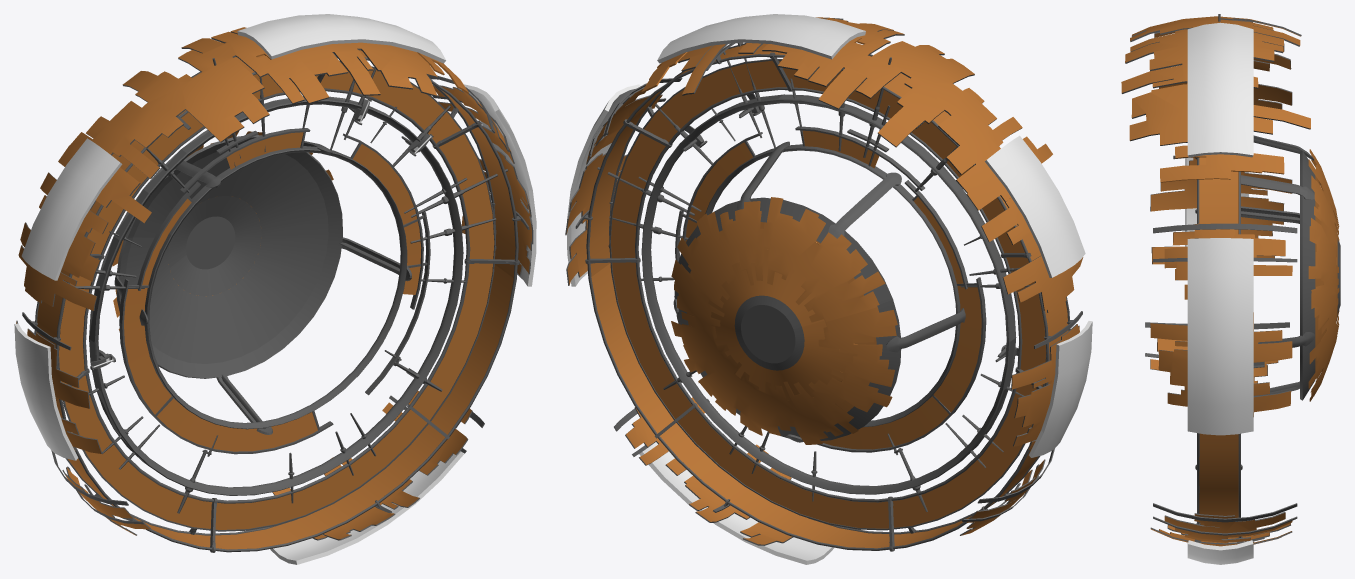
Rendered from VexArchitecture_51.fbx.
3 views of the same model, side by side, from view 1: azimuth 30°, elevation 25°; view 2: azimuth 150°, elevation 25°; view 3: azimuth 270°, elevation 25° (orthographic). The views are drawn at different scales.
Visible parts, largest first — view 1: Mesh_0491.rip, Mesh_0479.rip, Mesh_0468.rip, Mesh_0561.rip, Mesh_0221.rip.002, Mesh_0474.rip, Mesh_0486.rip.001, Mesh_0484.rip, Mesh_0479.rip.001, Mesh_0486.rip, Mesh_0558.rip.001, Mesh_0484.rip.002 (+12 smaller); view 2: Mesh_0491.rip, Mesh_0560.rip, Mesh_0468.rip, Mesh_0561.rip, Mesh_0479.rip, Mesh_0221.rip.002, Mesh_0474.rip, Mesh_0486.rip.001, Mesh_0484.rip, Mesh_0486.rip, Mesh_0558.rip.001, Mesh_0484.rip.002 (+12 smaller); view 3: Mesh_0484.rip.001, Mesh_0561.rip, Mesh_0484.rip, Mesh_0479.rip, Mesh_0491.rip, Mesh_0560.rip, Mesh_0558.rip, Mesh_0558.rip.002, Mesh_0559.rip, Mesh_0559.rip.002, Mesh_0475.rip.002, Mesh_0484.rip.002 (+10 smaller).
Part boxes in pixels (<box>): Mesh_0491.rip: <box>36,50,515,549</box>; Mesh_0479.rip: <box>114,135,411,434</box>; Mesh_0468.rip: <box>22,54,529,552</box>; Mesh_0561.rip: <box>58,27,468,223</box>; Mesh_0221.rip.002: <box>124,132,421,451</box>; Mesh_0474.rip: <box>119,128,430,454</box>; Mesh_0486.rip.001: <box>21,138,122,280</box>; Mesh_0484.rip: <box>237,14,445,63</box>; Mesh_0479.rip.001: <box>168,196,261,296</box>; Mesh_0486.rip: <box>14,323,78,460</box>; Mesh_0558.rip.001: <box>18,172,107,310</box>; Mesh_0484.rip.002: <box>270,451,463,564</box>; Mesh_0491.rip: <box>589,43,1068,548</box>; Mesh_0560.rip: <box>671,197,897,444</box>; Mesh_0468.rip: <box>575,42,1082,551</box>; Mesh_0561.rip: <box>641,17,1052,210</box>; Mesh_0479.rip: <box>673,141,965,442</box>; Mesh_0221.rip.002: <box>685,130,981,449</box>; Mesh_0474.rip: <box>675,126,986,452</box>; Mesh_0486.rip.001: <box>985,135,1085,277</box>; Mesh_0484.rip: <box>657,14,865,63</box>; Mesh_0486.rip: <box>1029,321,1092,457</box>; Mesh_0558.rip.001: <box>982,198,1083,312</box>; Mesh_0484.rip.002: <box>639,442,833,564</box>; Mesh_0484.rip.001: <box>1187,238,1253,435</box>; Mesh_0561.rip: <box>1121,16,1310,182</box>; Mesh_0484.rip: <box>1187,22,1253,157</box>; Mesh_0479.rip: <box>1241,135,1340,400</box>; Mesh_0491.rip: <box>1199,157,1238,537</box>; Mesh_0560.rip: <box>1308,149,1339,401</box>; Mesh_0558.rip: <box>1150,312,1292,416</box>; Mesh_0558.rip.002: <box>1151,157,1291,264</box>; Mesh_0559.rip: <box>1164,223,1292,299</box>; Mesh_0559.rip.002: <box>1164,512,1292,542</box>; Mesh_0475.rip.002: <box>1153,503,1297,540</box>; Mesh_0484.rip.002: <box>1187,540,1253,564</box>.
Size of the model in its own units: 213 by 215 by 84.17.
